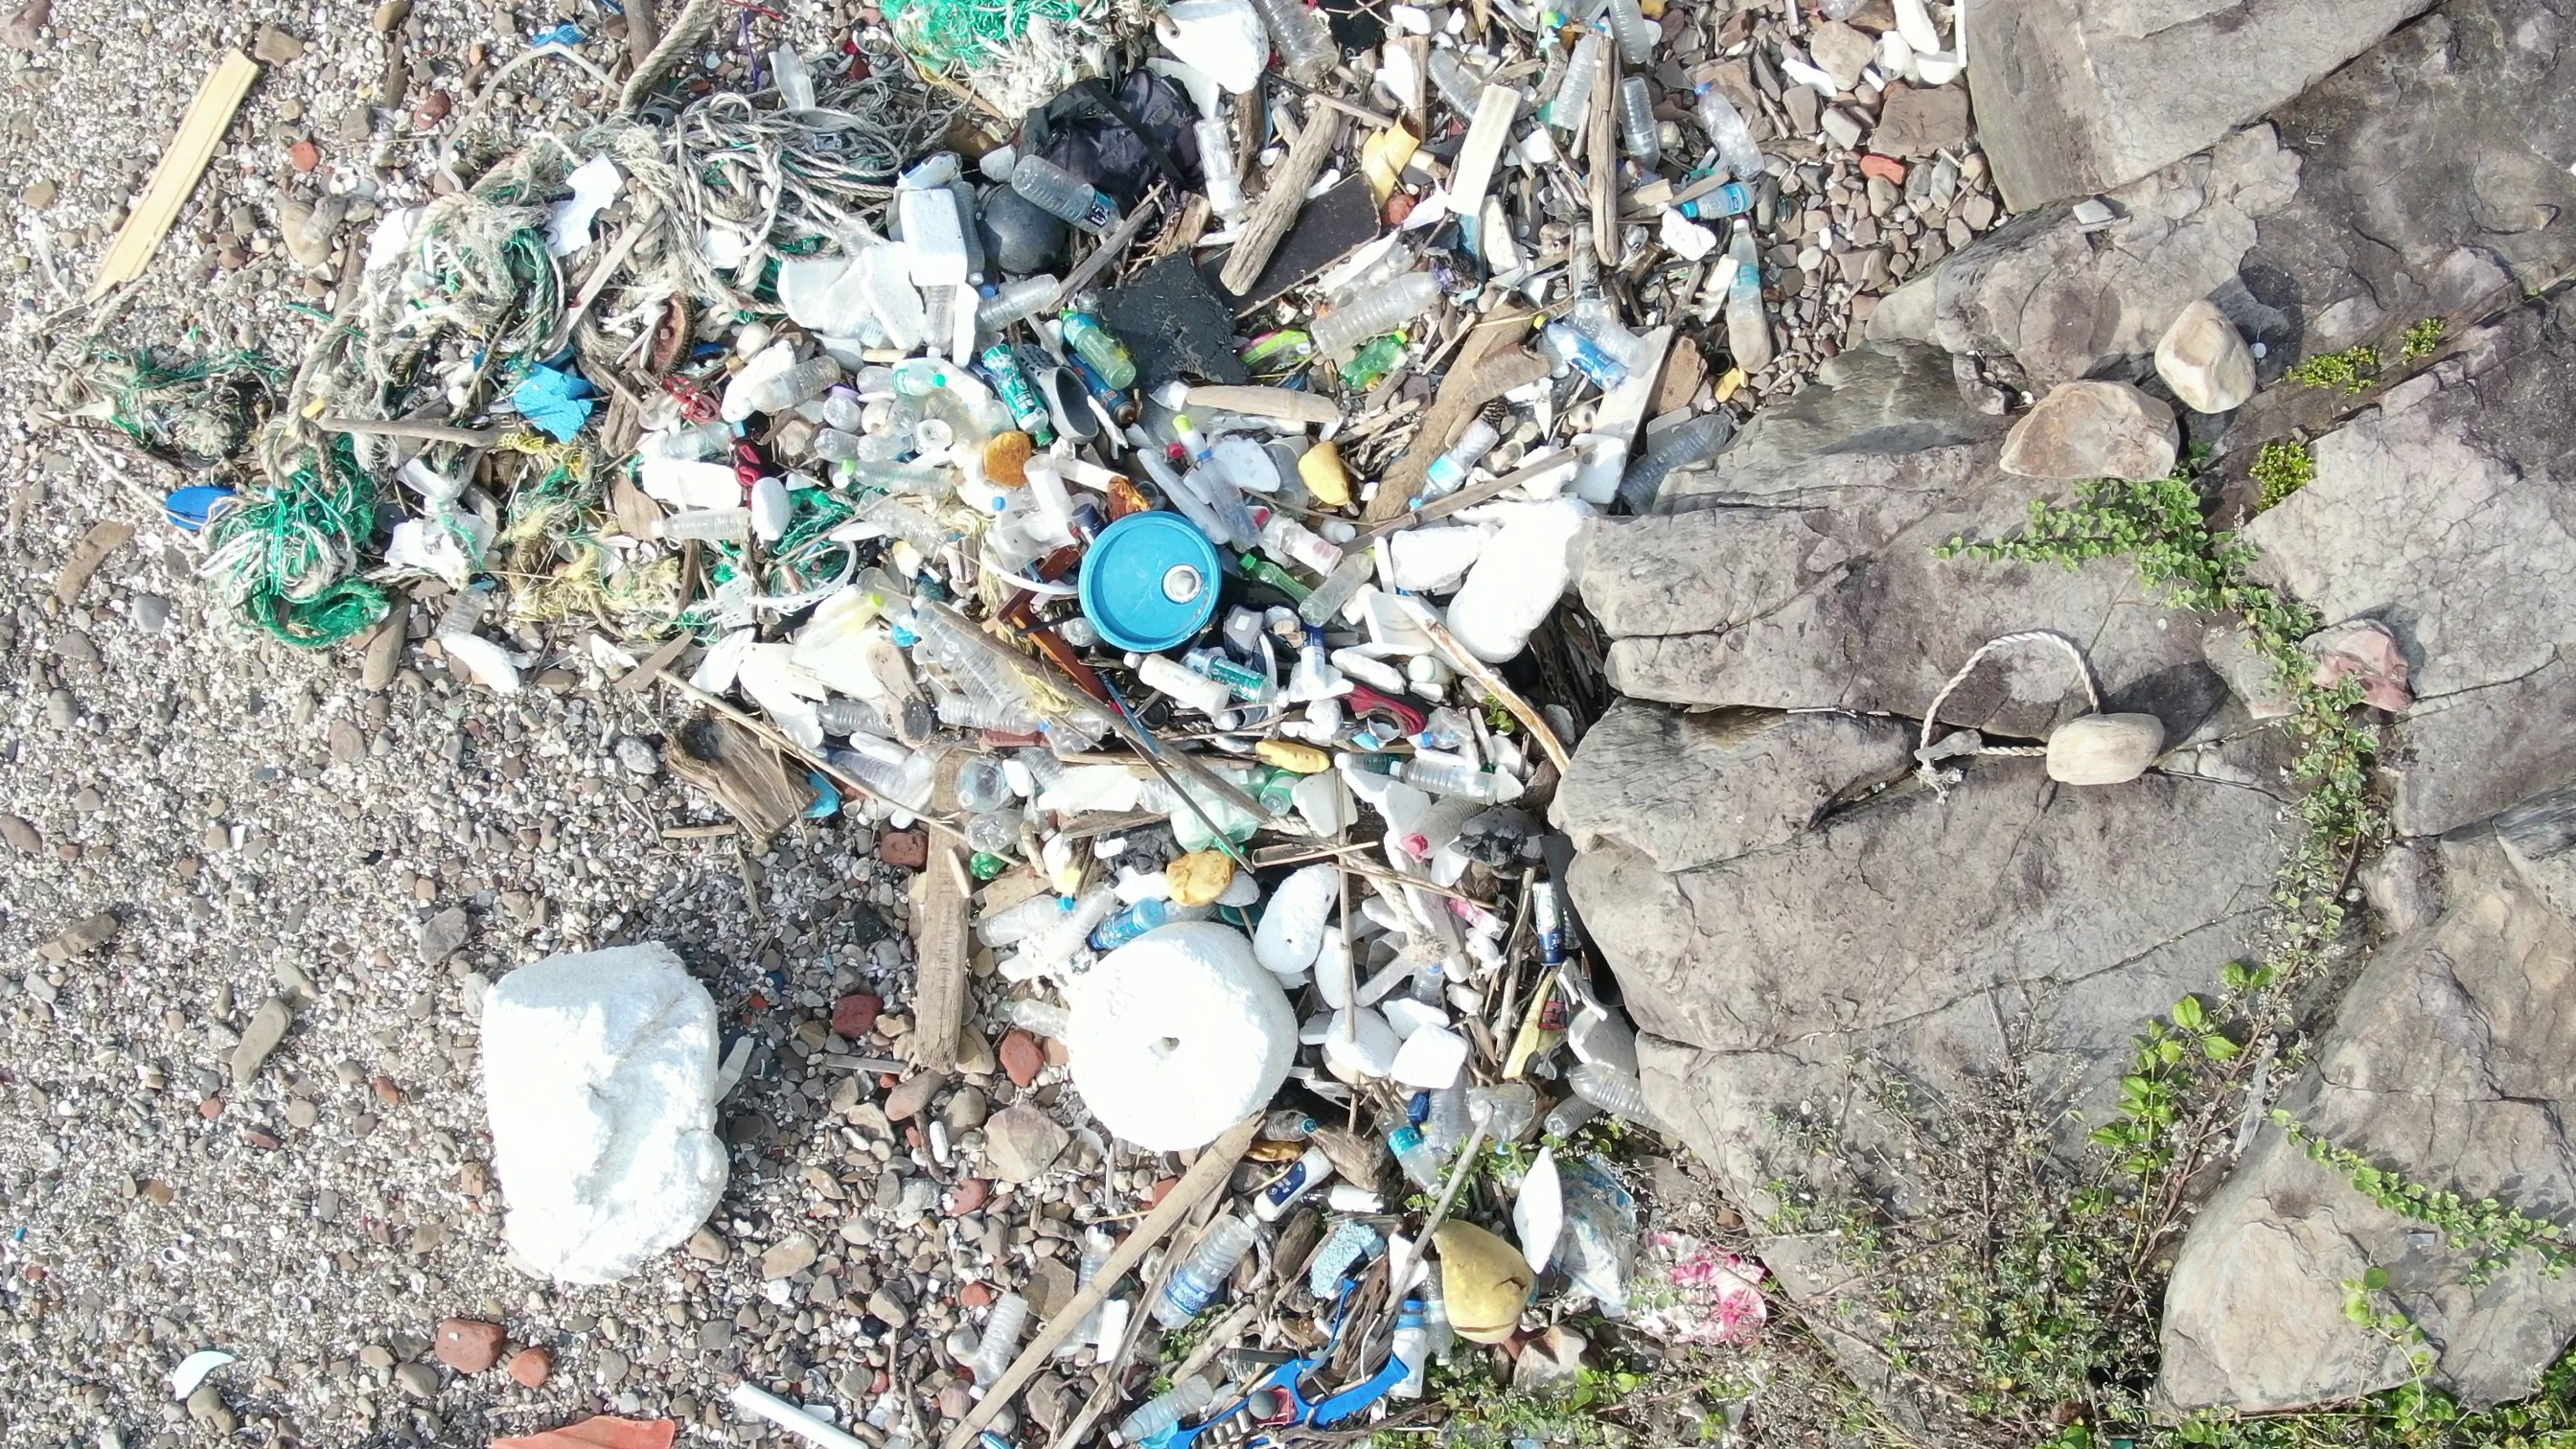bottle: (1306, 255, 1461, 370), (1146, 1210, 1272, 1334), (1552, 1047, 1695, 1131), (1523, 311, 1637, 403), (1100, 1369, 1235, 1444), (1369, 1086, 1447, 1210), (1408, 416, 1506, 513), (1010, 156, 1127, 234), (1054, 297, 1141, 398), (973, 336, 1051, 448), (1546, 23, 1619, 140), (1686, 83, 1776, 177), (1253, 2, 1350, 88), (1081, 885, 1180, 955), (1718, 214, 1769, 340), (1198, 446, 1260, 548), (1614, 67, 1670, 179), (757, 345, 858, 407), (1235, 540, 1307, 605), (844, 357, 959, 398), (1606, 2, 1667, 78), (640, 506, 763, 543), (1679, 173, 1764, 223)
garbage: (672, 660, 1785, 1449), (849, 2, 1760, 678), (76, 111, 1146, 665), (1897, 621, 2174, 824)
